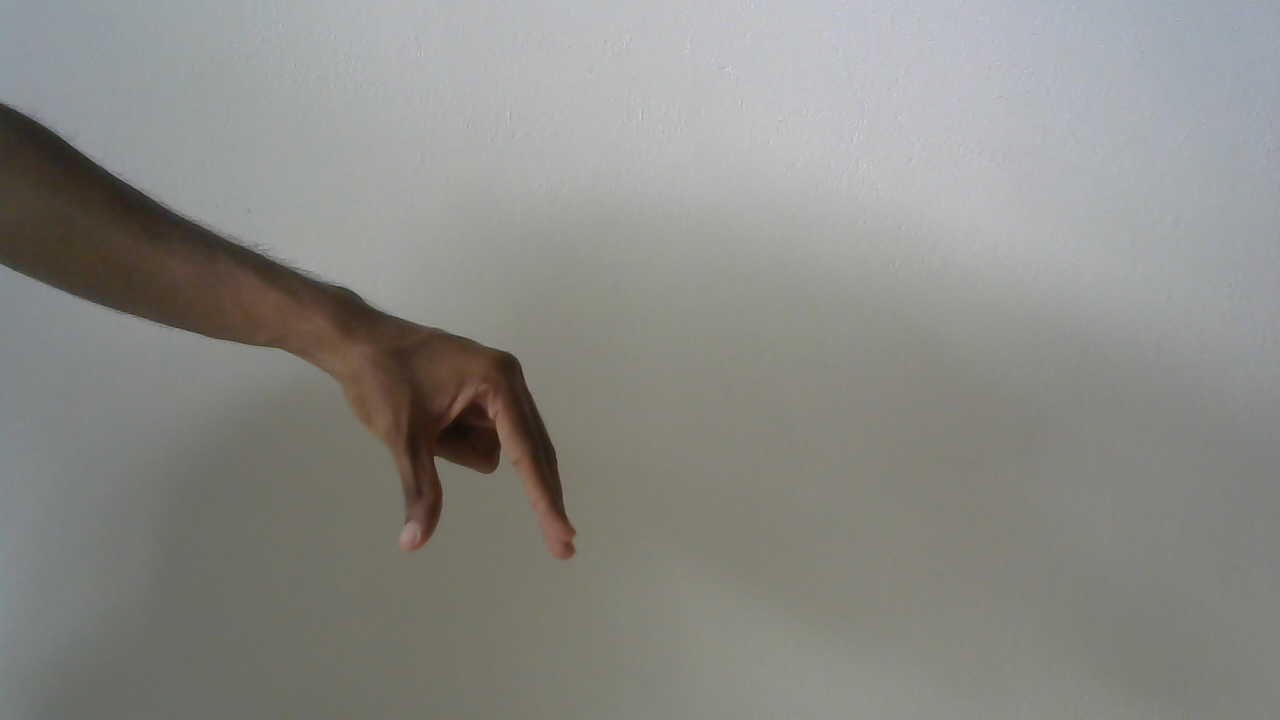no: (330, 263, 602, 582)
